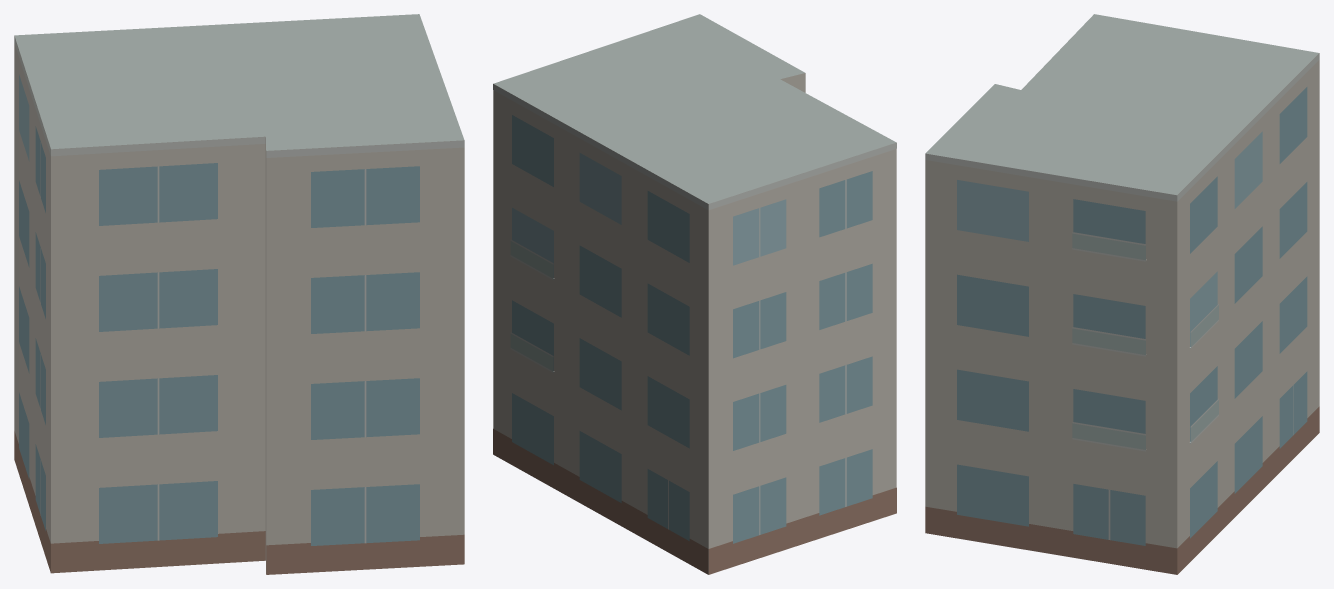
The model's file is survey-upis-32778732.glb.
3 renders of one model, left to right at view 1: azimuth 30°, elevation 25°; view 2: azimuth 150°, elevation 25°; view 3: azimuth 270°, elevation 25°, orthographic. The views are drawn at different scales.
Visible parts, largest first — view 1: survey-upis-32778732.tmp; view 2: survey-upis-32778732.tmp; view 3: survey-upis-32778732.tmp.
Boxes of the visible parts, <box> form: survey-upis-32778732.tmp: <box>14,14,464,574</box>; survey-upis-32778732.tmp: <box>493,14,896,574</box>; survey-upis-32778732.tmp: <box>925,14,1319,574</box>.
Bounding box in the file's own units: 14.78 × 14.42 × 13.58.
